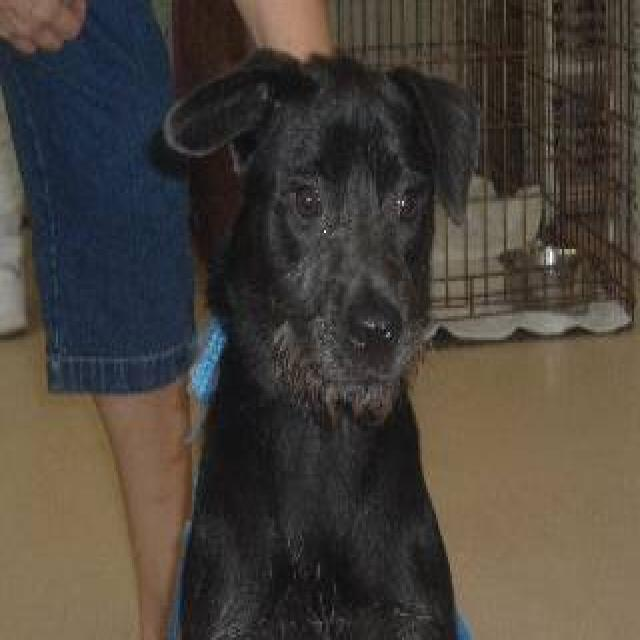dog: (154, 43, 482, 637)
